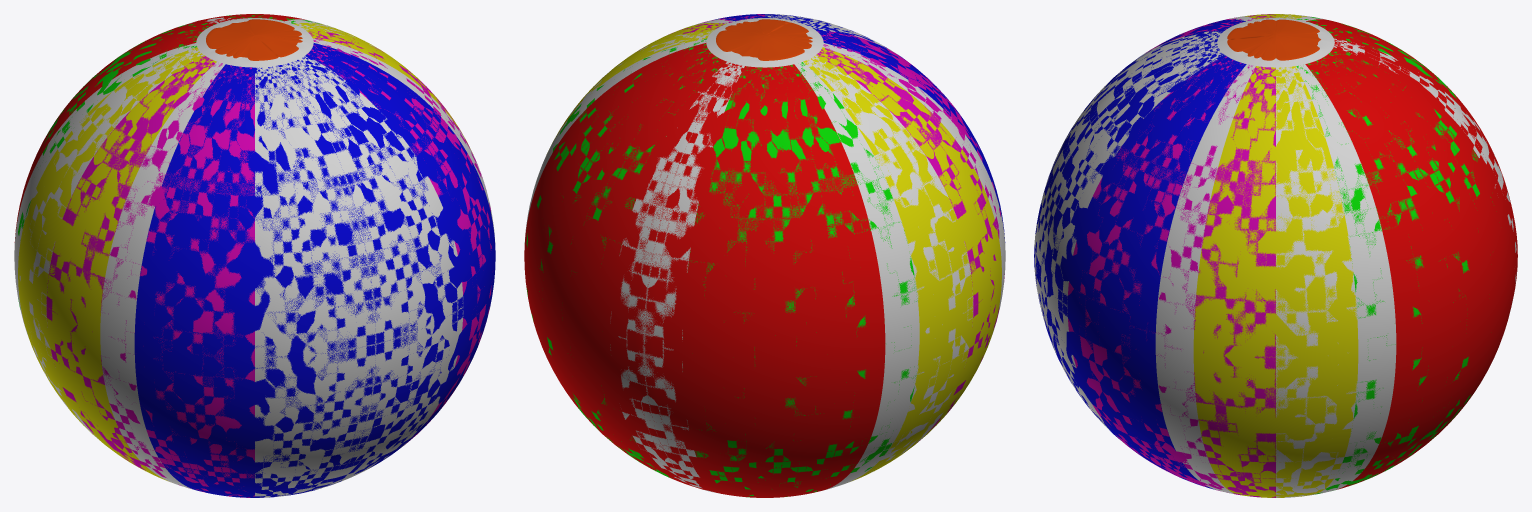
The model's file is beachball.obj.
3 renders of one model, left to right at view 1: azimuth 30°, elevation 25°; view 2: azimuth 150°, elevation 25°; view 3: azimuth 270°, elevation 25°, orthographic.
Visible parts, largest first — view 1: Sphere; view 2: Sphere; view 3: Sphere.
Boxes of the visible parts, bbox=[...] form: Sphere: bbox=[14, 14, 495, 497]; Sphere: bbox=[524, 14, 1005, 497]; Sphere: bbox=[1034, 14, 1517, 497].
Size of the model in its own units: 1.98 by 2 by 1.99.
